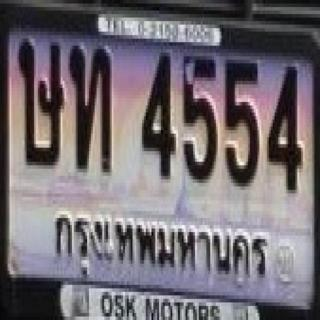A23: (66, 41, 119, 178)
A39: (14, 32, 67, 166)
N04: (266, 63, 310, 196), (135, 49, 178, 184)
N05: (219, 53, 263, 190), (179, 51, 221, 184)
P04: (42, 213, 271, 289)
